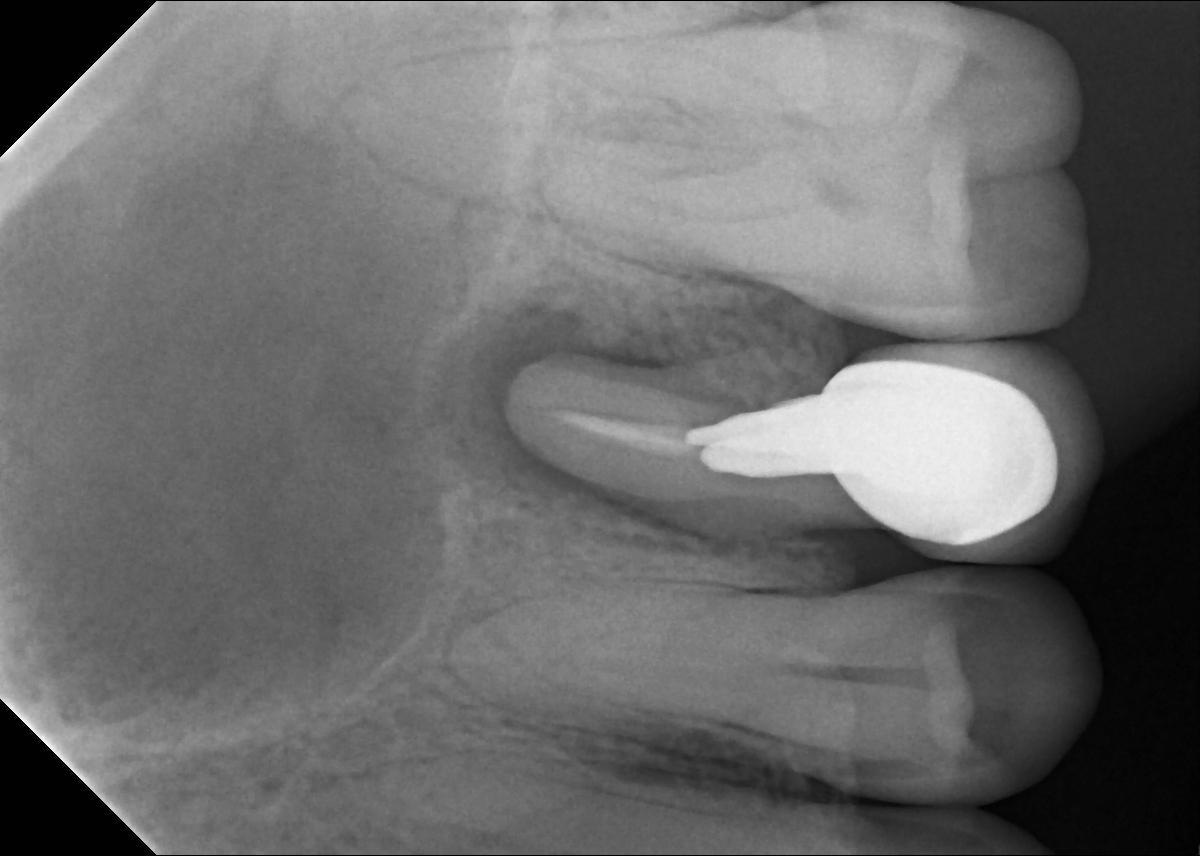Furcation Involvement: (419, 291, 712, 539)
